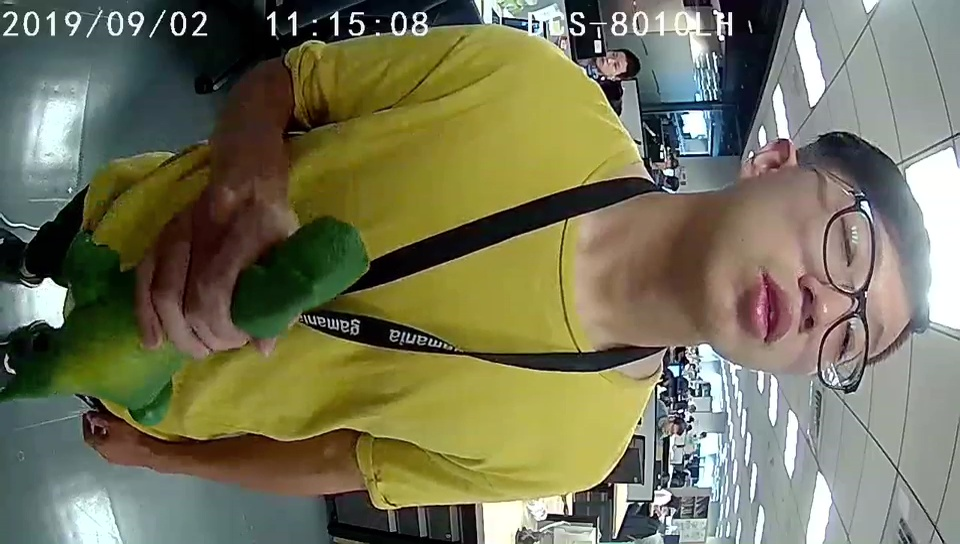rex: (74, 217, 368, 423)
